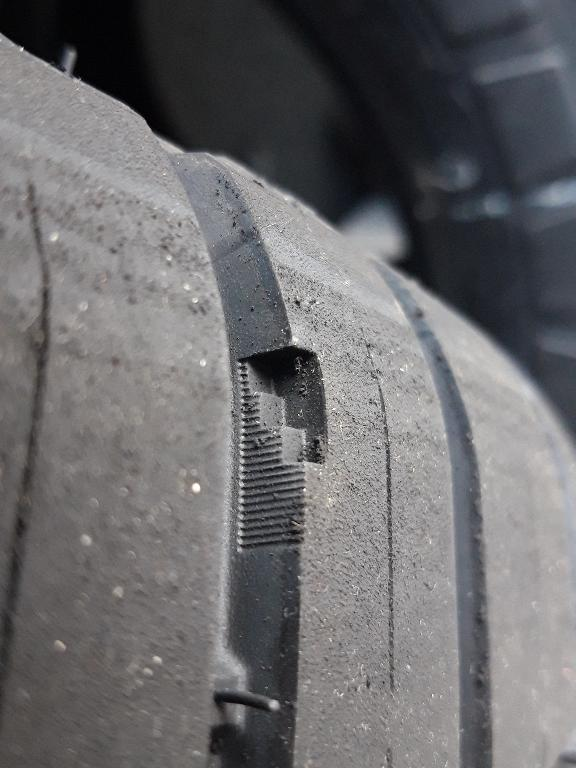temoin:75: (228, 334, 336, 510)
